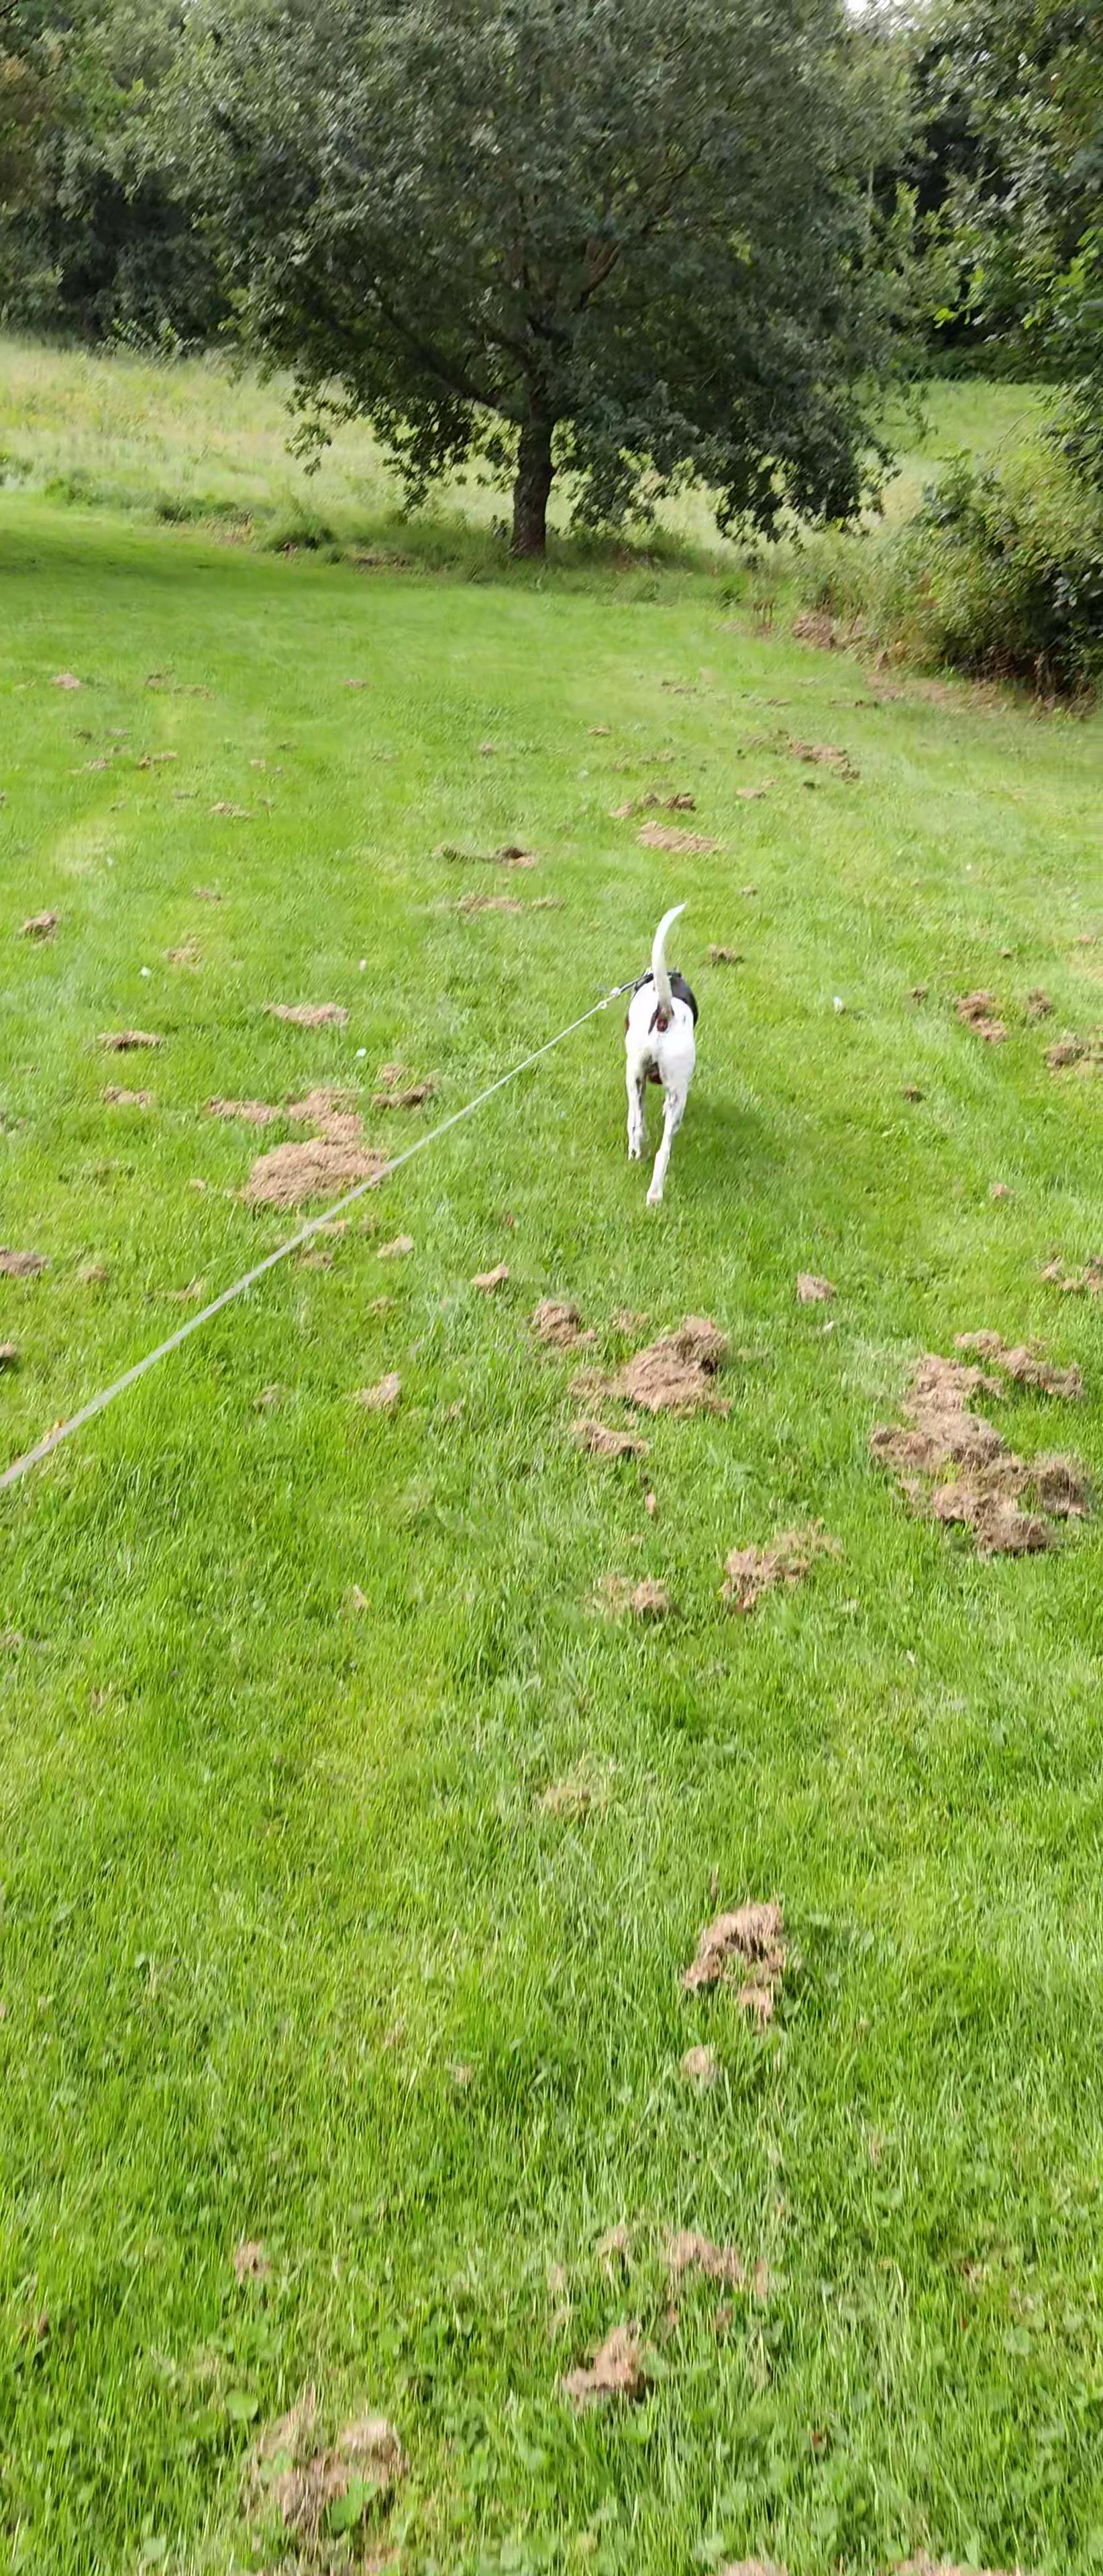Dog: (587, 881, 735, 1211)
